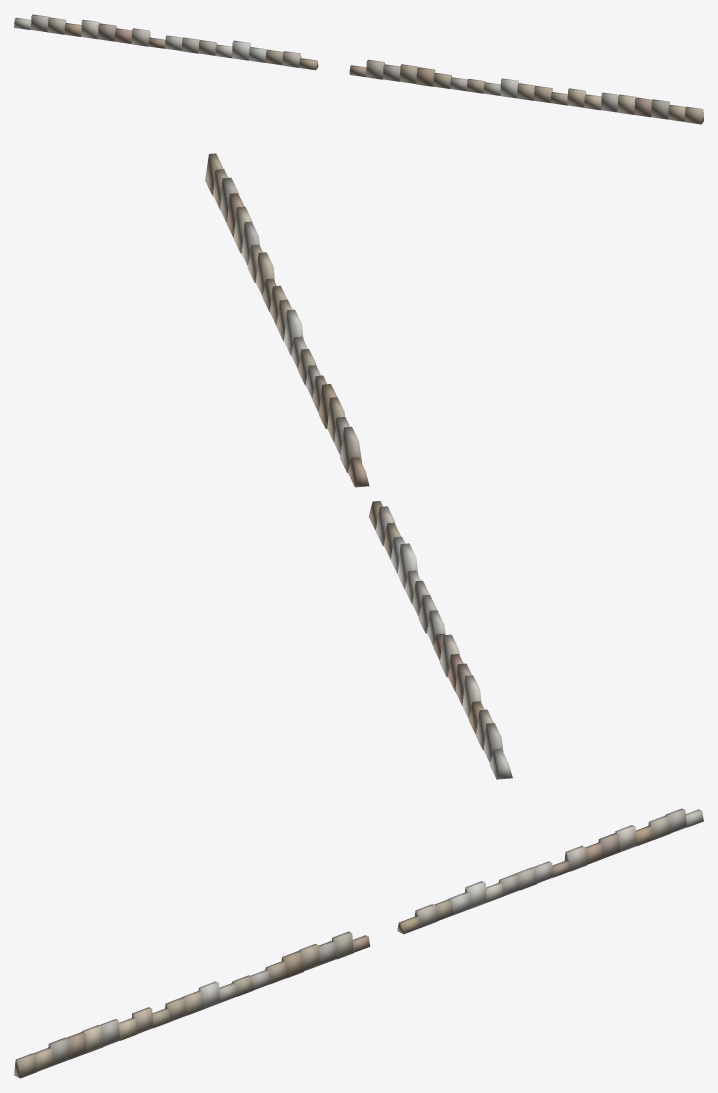
Rendered from farm_3_6_collision.glb.
3 views of the same model, one above another, from view 1: azimuth 30°, elevation 25°; view 2: azimuth 150°, elevation 25°; view 3: azimuth 270°, elevation 25° (orthographic). The views are drawn at different scales.
Parts seen in each view (by area): view 1: geometry_0; view 2: geometry_0; view 3: geometry_0.
Part boxes in pixels (<box>): geometry_0: <box>14,14,703,124</box>; geometry_0: <box>205,153,512,779</box>; geometry_0: <box>14,808,703,1078</box>.
Bounding box in the file's own units: 43.23 × 1.55 × 48.5.
